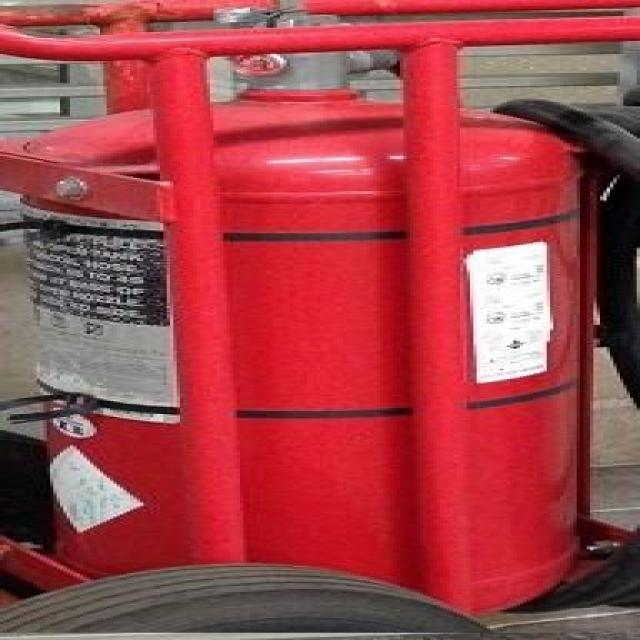fire_extinguisher: (0, 3, 637, 628)
